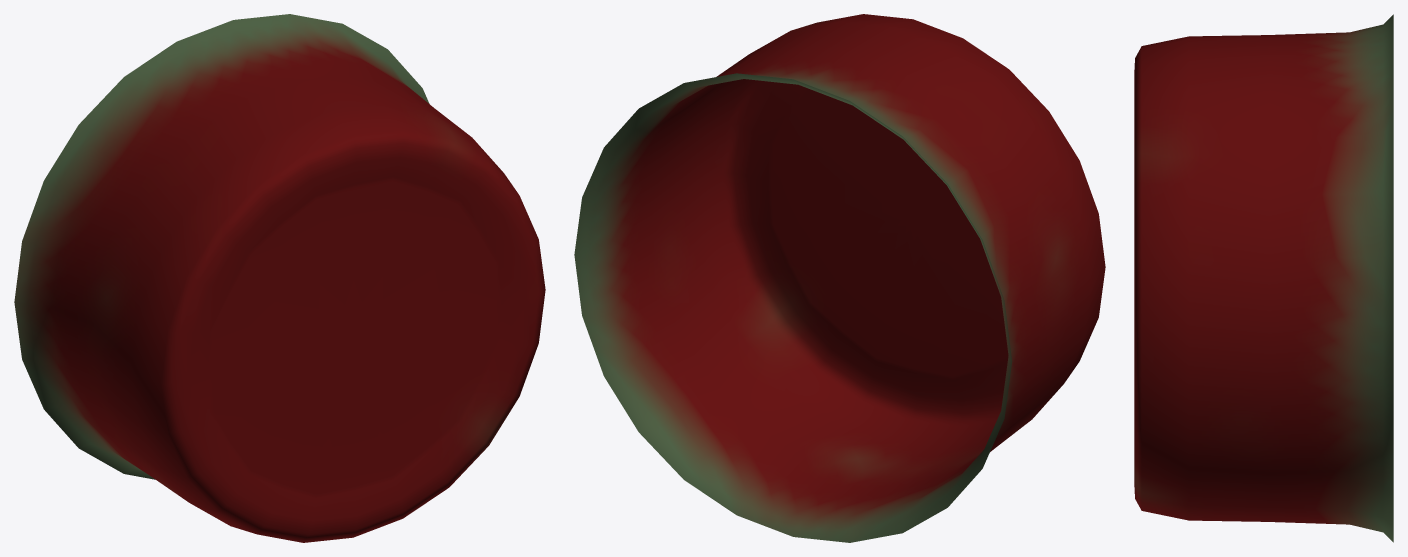
The model's file is Button.fbx.
The picture shows the model from 3 angles, left to right: view 1: azimuth 30°, elevation 25°; view 2: azimuth 150°, elevation 25°; view 3: azimuth 270°, elevation 25°; orthographic projection. The views are drawn at different scales.
Parts seen in each view (by area): view 1: polySurface209.001; view 2: polySurface209.001; view 3: polySurface209.001.
Part boxes in pixels (box(x1,y1,x2,y2)): polySurface209.001: box(14, 14, 545, 542); polySurface209.001: box(574, 14, 1105, 542); polySurface209.001: box(1134, 14, 1393, 542).
Bounding box in the file's own units: 7.39 × 7.38 × 3.61.
1 material, 1 textured.
